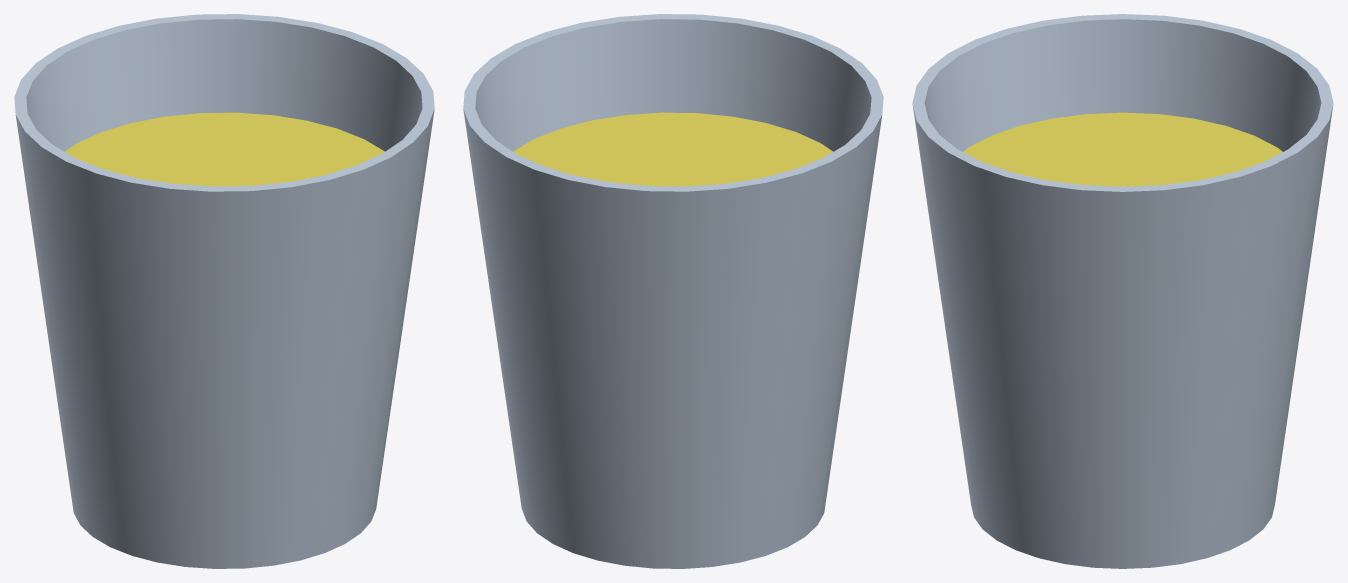
File: Glass_limonade.fbx
The picture shows the model from 3 angles, left to right: view 1: azimuth 30°, elevation 25°; view 2: azimuth 150°, elevation 25°; view 3: azimuth 270°, elevation 25°; orthographic projection.
Visible parts, largest first — view 1: Circle.005, Circle.010; view 2: Circle.005, Circle.010; view 3: Circle.005, Circle.010.
Boxes of the visible parts, x1,y1,x2,y2 form: Circle.005: [14, 14, 434, 568]; Circle.010: [65, 112, 384, 186]; Circle.005: [463, 14, 883, 568]; Circle.010: [513, 112, 832, 186]; Circle.005: [912, 14, 1333, 568]; Circle.010: [963, 112, 1282, 186].
Bounding box in the file's own units: 18 × 18.95 × 18.
